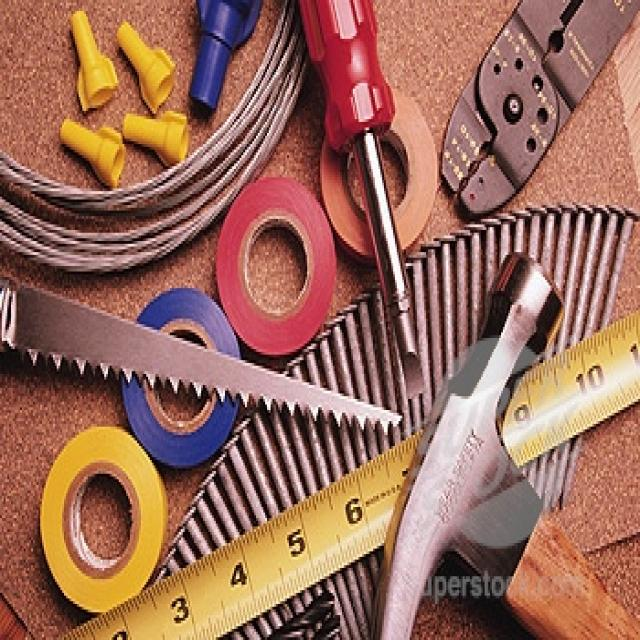hammer: (366, 251, 639, 640)
saw: (1, 274, 403, 431)
scale: (51, 311, 640, 640)
screw_driver: (298, 0, 411, 357)
wire_cutter: (438, 0, 640, 217)
